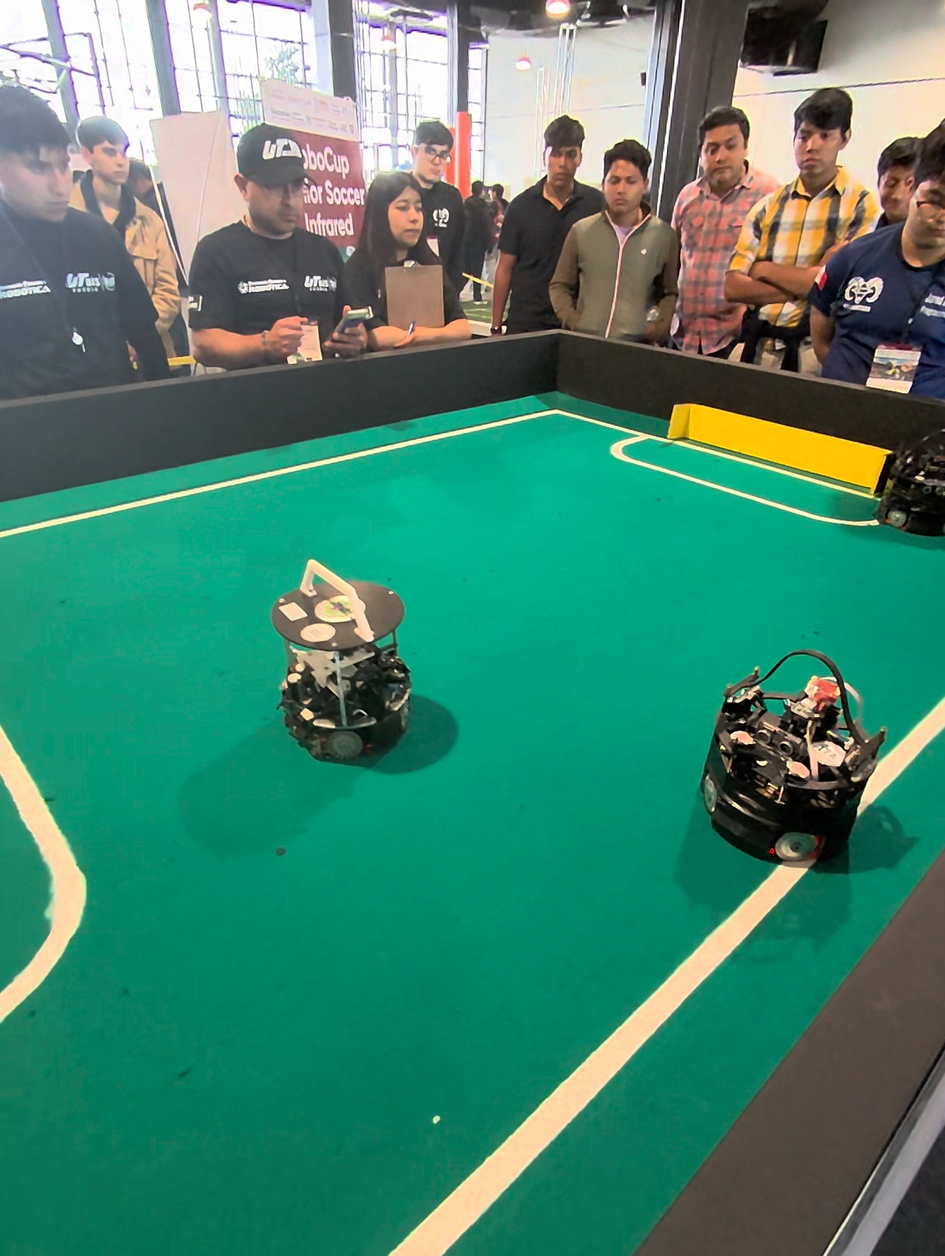Robot: (709, 637, 890, 879), (260, 535, 415, 777), (878, 428, 945, 543)
